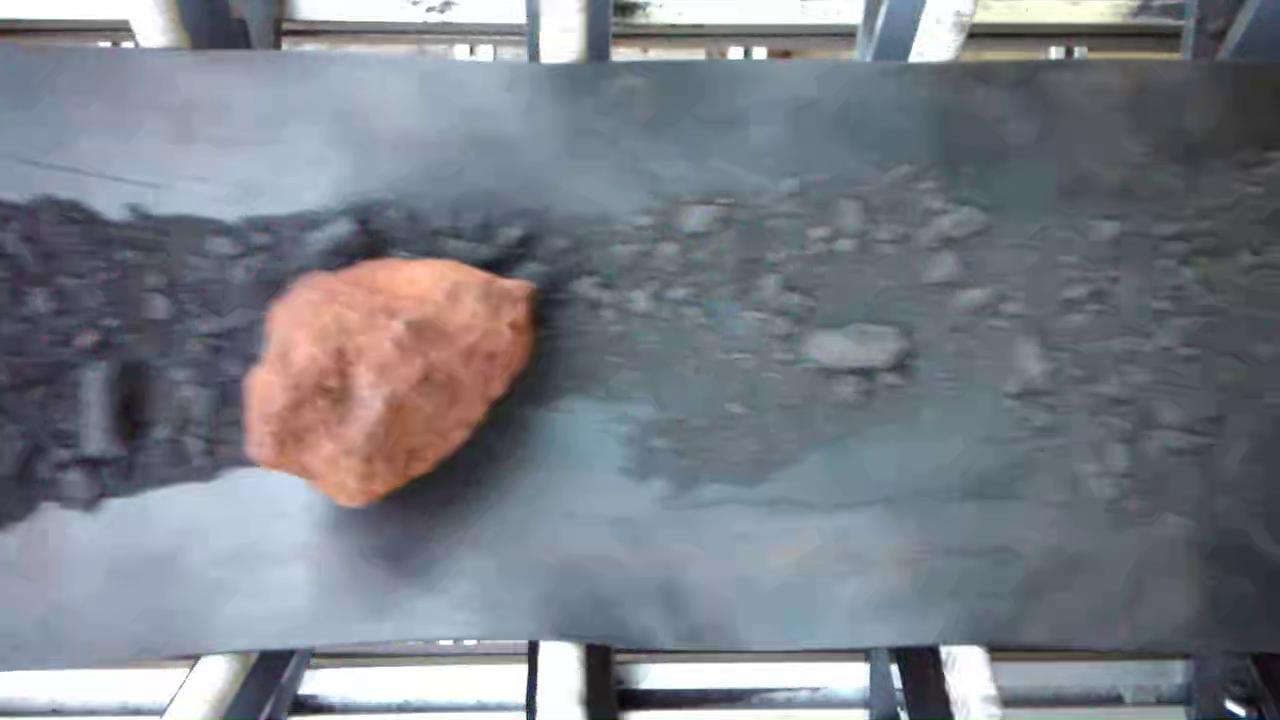conveyor: (5, 66, 1280, 644)
